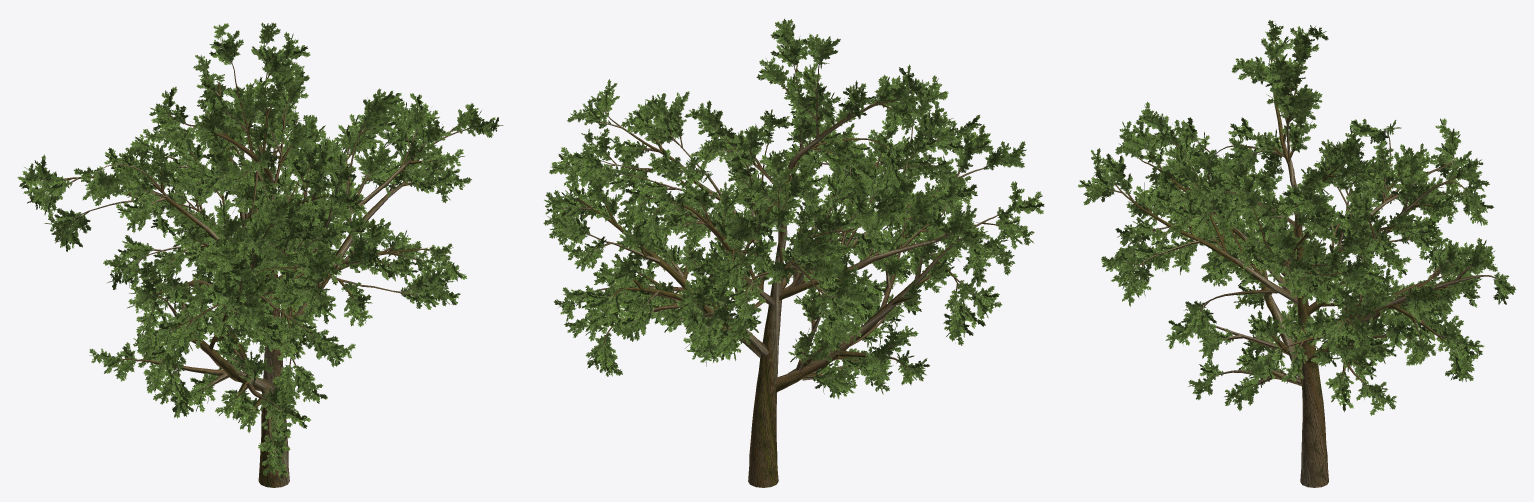
Rendered from ez-oak-high.glb.
The picture shows the model from 3 angles, left to right: view 1: azimuth 30°, elevation 25°; view 2: azimuth 150°, elevation 25°; view 3: azimuth 270°, elevation 25°; orthographic projection. The views are drawn at different scales.
Visible parts, largest first — view 1: Tree; view 2: Tree; view 3: Tree.
Part boxes in pixels (x1,y1,x2,y2): Tree: (17,22,503,487); Tree: (543,18,1044,487); Tree: (1078,20,1516,487).
Bounding box in the file's own units: 94.25 × 100 × 92.15.
2 materials, 2 textured.
